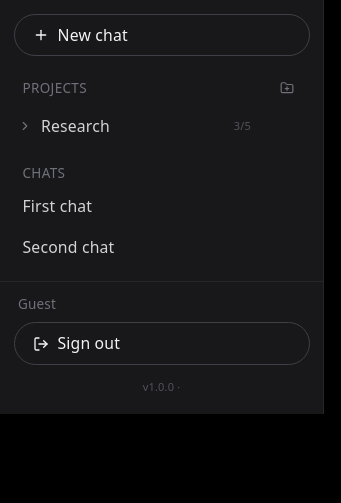
Scenario: ChatSidebar › lists a project’s chats when the project is clicked
This screenshot has width=341, height=503.
Click the button "Research 3/5": (130, 126) [9,106,251,146]
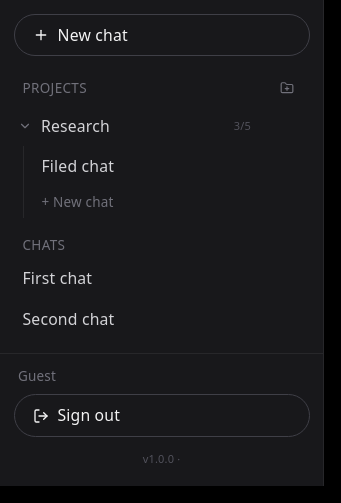
Check: the button "Filed chat" is shown, box [28,146,314,186]
